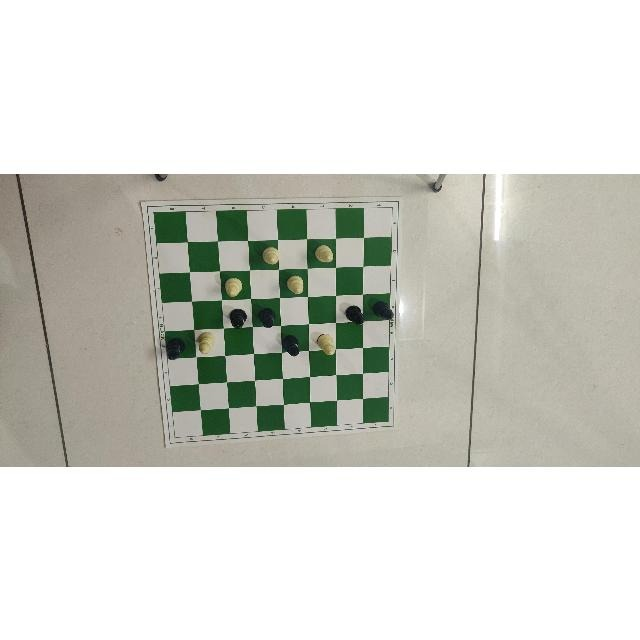black-bishop: (163, 333, 187, 363), (226, 305, 249, 331), (341, 302, 367, 325), (371, 299, 395, 322), (280, 332, 301, 357), (256, 306, 277, 328)
white-bishop: (314, 329, 339, 357), (193, 330, 221, 354), (312, 240, 336, 265), (283, 273, 307, 295), (222, 276, 247, 296), (260, 245, 282, 265)
